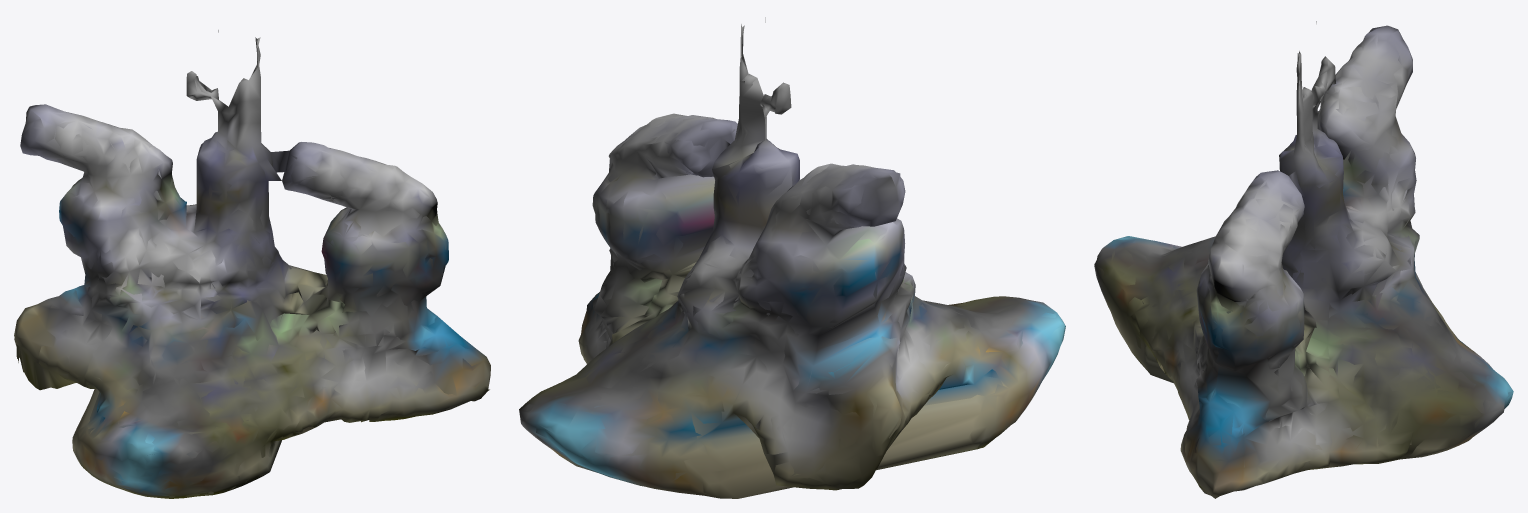
Rendered from allied_robot_control.glb.
3 renders of one model, left to right at view 1: azimuth 30°, elevation 25°; view 2: azimuth 150°, elevation 25°; view 3: azimuth 270°, elevation 25°, orthographic. The views are drawn at different scales.
Visible parts, largest first — view 1: allied_robot_control; view 2: allied_robot_control; view 3: allied_robot_control.
Boxes of the visible parts, x1,y1,x2,y2 form: allied_robot_control: (14,30,490,498); allied_robot_control: (519,17,1065,498); allied_robot_control: (1094,21,1513,498).
Size of the model in its own units: 1.69 by 1.56 by 1.55.
